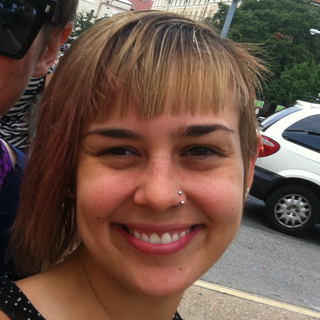eye: (84, 138, 150, 167), (172, 140, 233, 171)
